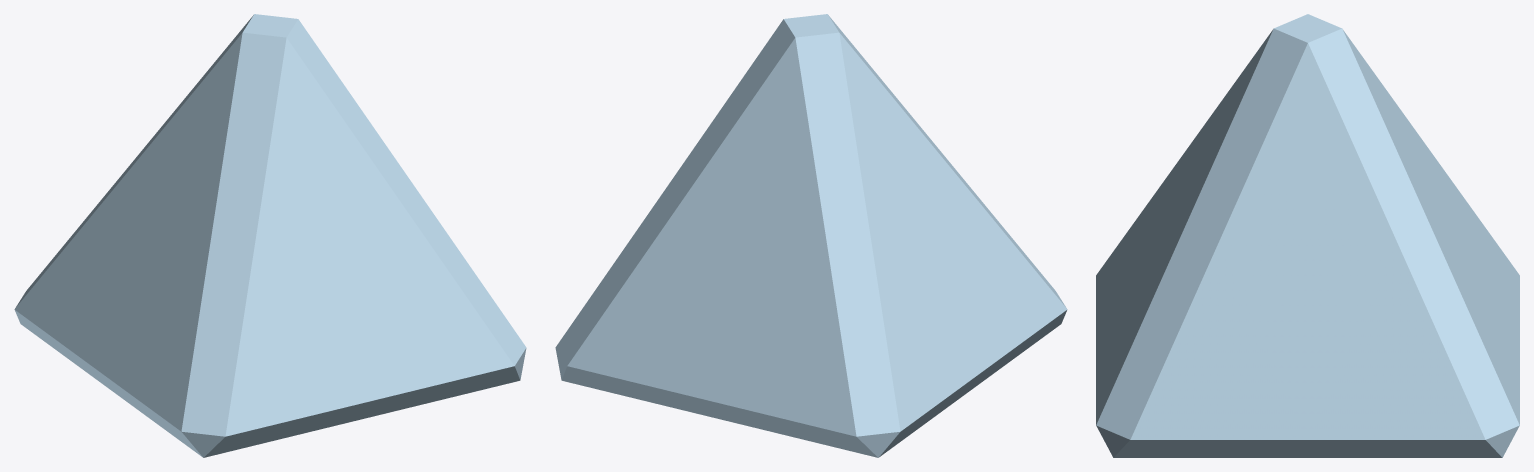
3 views of the same model, side by side, from view 1: azimuth 30°, elevation 25°; view 2: azimuth 150°, elevation 25°; view 3: azimuth 270°, elevation 25° (orthographic). The views are drawn at different scales.
Parts seen in each view (by area): view 1: R4B_Pyramid; view 2: R4B_Pyramid; view 3: R4B_Pyramid.
Boxes of the visible parts, box(x1,y1,x2,y2) form: R4B_Pyramid: box(14, 14, 526, 457); R4B_Pyramid: box(555, 14, 1067, 457); R4B_Pyramid: box(1096, 14, 1519, 457).
Bounding box in the file's own units: 0.4878 × 0.4411 × 0.4878.
